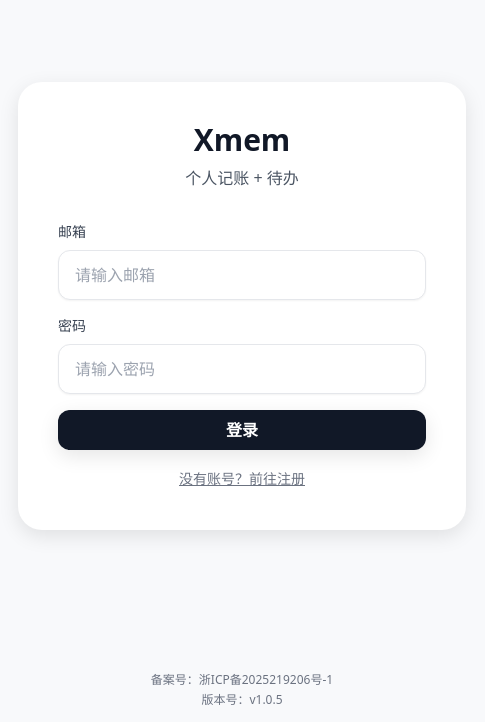
Test: Auth › 切换模式会更新路由并清理注册相关字段
Click the button "没有账号？前往注册". click: (242, 479)
box: [179,469,305,489]
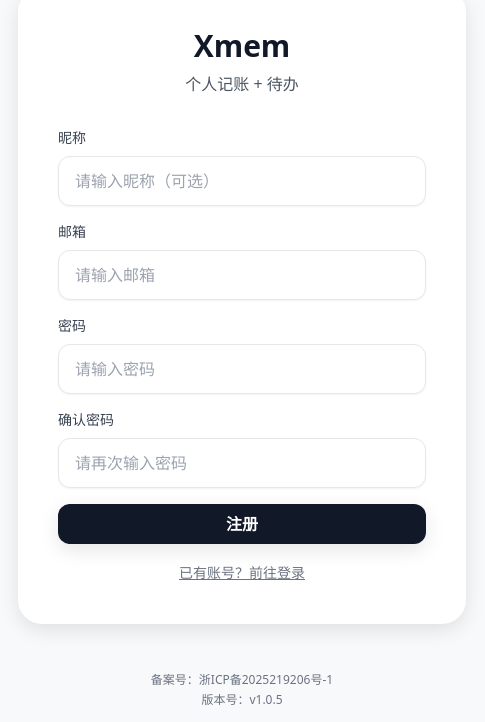
Check: the field with placeholder "请输入昵称（可选）" is shown, box [58,156,426,206]
Check: the password field with placeholder "请再次输入密码" is shown, box [58,438,426,488]
